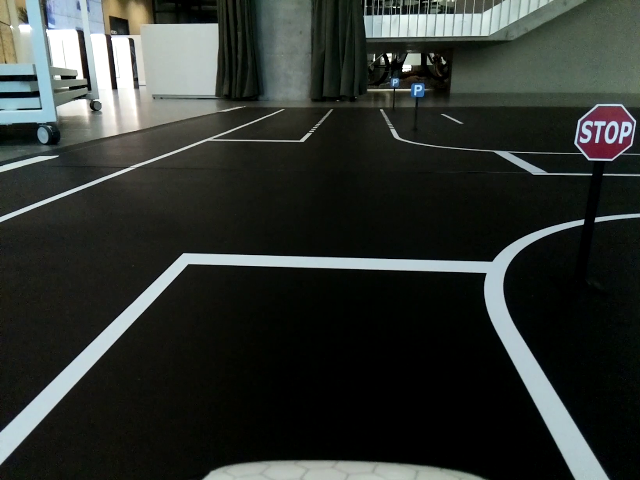stop: (574, 105, 635, 160)
